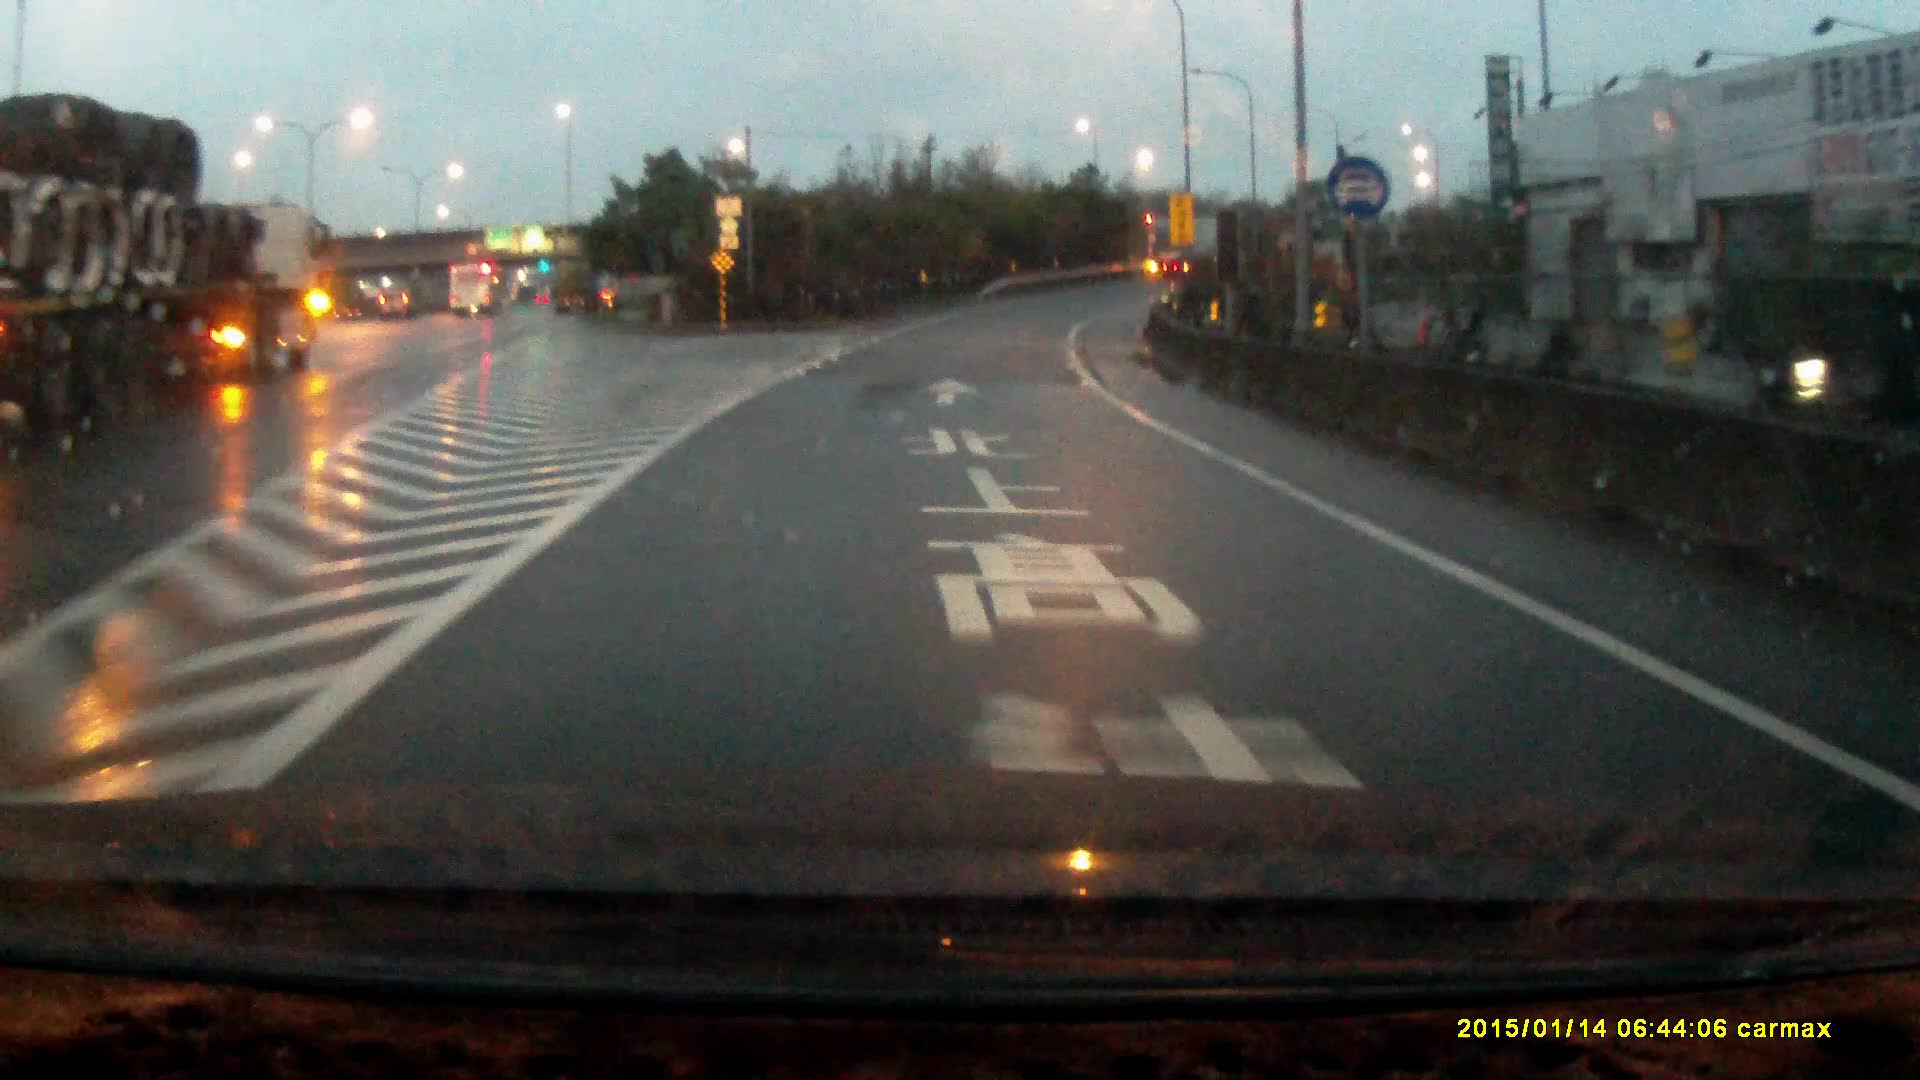vehicle: (1, 98, 335, 433), (1146, 218, 1240, 280), (448, 262, 510, 320), (378, 291, 415, 322)
